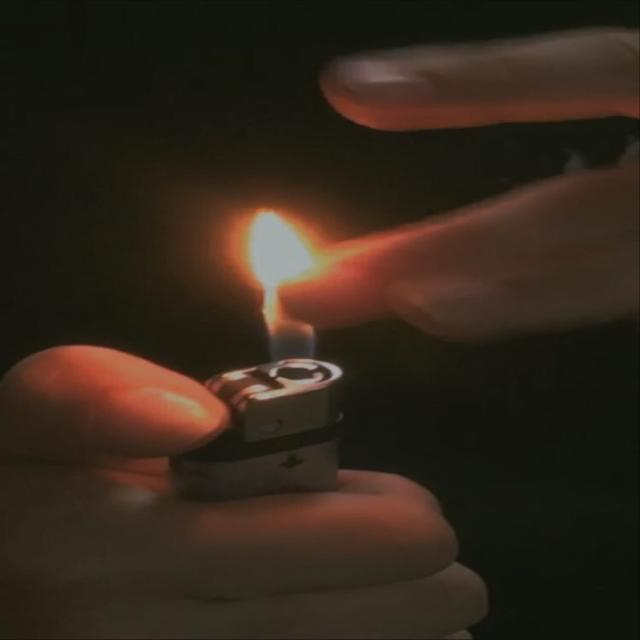fire: (245, 208, 318, 288)
